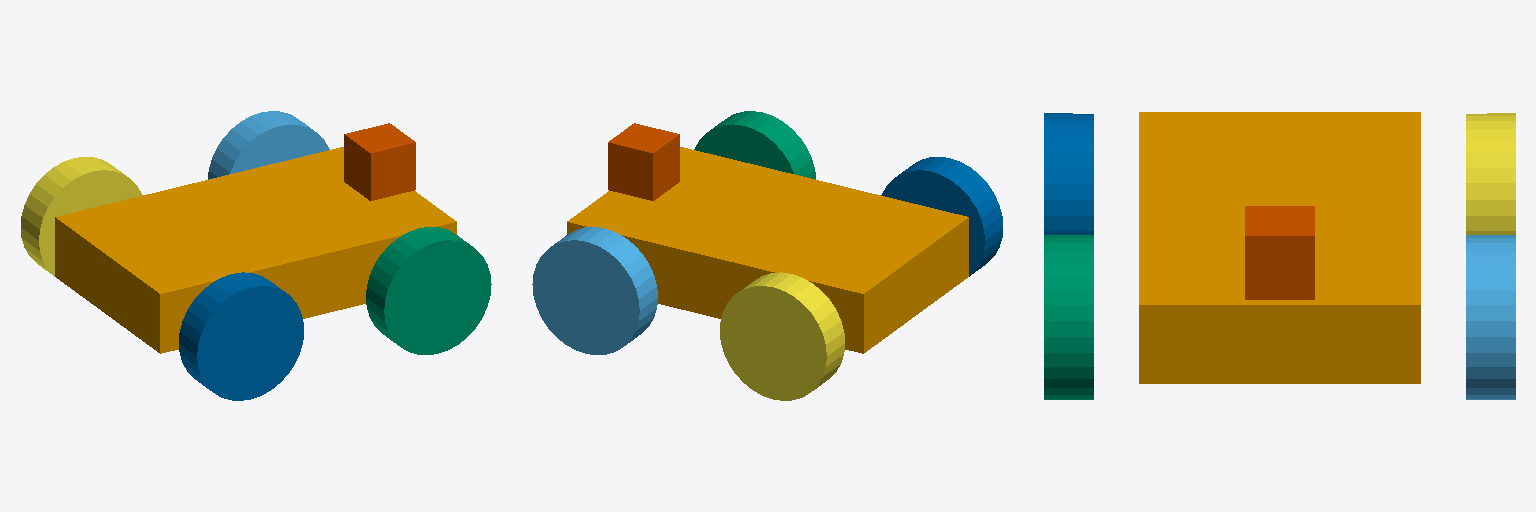
The robot description file, URDF, robot "avular_origin_v10":
<?xml version='1.0'?>

<robot name="avular_origin_v10">

  <material name="grey">
    <color rgba="0.2 0.2 0.2 1"/>
  </material>

  <link name='main_body'>
    <inertial>
      <mass value="21.0"/>
      <inertia ixx="0.4" ixy="0.0" ixz="0.0" iyy="0.77" iyz="0.0" izz="1.01"/>
    </inertial>
    <collision name='main_body_collision'>
      <origin xyz="0 0 0.07" rpy="0 0 0.0"/>
      <geometry>
        <box size=".65 .4 .125"/>
      </geometry>
    </collision>
    <visual name='main_body_visual'>
      <origin xyz="0 0 0.07" rpy="0 0 0.0"/>
      <geometry>
        <box size=".65 .4 .125"/>
      </geometry>
      <material name="black"/>
    </visual>
  </link>

 
  <link name="left_front_wheel">
    <inertial>
      <mass value="1"/>
      <inertia ixx="0.01" ixy="0.0" ixz="0.0" iyy="0.01" iyz="0.0" izz="0.01"/>
    </inertial>
    <collision name="left_front_wheel_collision">
      <origin xyz="0 0 0.0" rpy="0 0 0"/>
      <geometry>
        <cylinder length=".02" radius=".1175"/>
      </geometry>
    </collision>
    <visual name="left_front_wheel_visual">
      <origin xyz="0.0 0.0 0.0" rpy="0.0 0.0 0.0"/>
      <geometry>
        <cylinder length=".07" radius=".1175"/>
      </geometry>
    </visual>
  </link>

  <link name="right_front_wheel">
    <inertial>
      <mass value="1"/>
      <inertia ixx="0.01" ixy="0.0" ixz="0.0" iyy="0.01" iyz="0.0" izz="0.01"/>
    </inertial>
    <collision name="right_front_wheel_collision">
      <origin xyz="0 0 0.0" rpy="0 0 0"/>
      <geometry>
        <cylinder length=".02" radius=".1175"/>
      </geometry>
    </collision>
    <visual name="right_front_wheel_visual">
      <origin xyz="0.0 0.0 0.0" rpy="0.0 0.0 0.0"/>
      <geometry>
        <cylinder length=".07" radius=".1175"/>
      </geometry>
    </visual>
  </link>

  <link name="left_rear_wheel">
    <inertial>
      <mass value="1"/>
      <inertia ixx="0.01" ixy="0.0" ixz="0.0" iyy="0.01" iyz="0.0" izz="0.01"/>
    </inertial>
    <collision name="left_rear_wheel_collision">
      <origin xyz="0 0 0.0" rpy="0 0 0"/>
      <geometry>
        <cylinder length=".02" radius=".1175"/>
      </geometry>
    </collision>
    <visual name="left_rear_wheel_visual">
      <origin xyz="0.0 0.0 0.0" rpy="0.0 0.0 0.0"/>
      <geometry>
        <cylinder length=".07" radius=".1175"/>
      </geometry>
    </visual>
  </link>

  <link name="right_rear_wheel">
    <inertial>
      <mass value="1"/>
      <inertia ixx="0.01" ixy="0.0" ixz="0.0" iyy="0.01" iyz="0.0" izz="0.01"/>
    </inertial>
    <collision name="right_rear_wheel_collision">
      <origin xyz="0 0 0.0" rpy="0 0 0"/>
      <geometry>
        <cylinder length=".02" radius=".1175"/>
      </geometry>
    </collision>
    <visual name="right_rear_wheel_visual">
      <origin xyz="0.0 0.0 0.0" rpy="0.0 0.0 0.0"/>
      <geometry>
        <cylinder length=".07" radius=".1175"/>
      </geometry>
    </visual>
  </link>


  <link name="ouster_base">
    <inertial>
      <mass value="1"/>
      <inertia ixx="0.001" ixy="0.0" ixz="0.0" iyy="0.001" iyz="0.0" izz="0.001"/>
    </inertial>
    <visual name="ouster_base">
      <geometry>
        <box size="0.1 0.1 0.1"/>
      </geometry>
    </visual>
    <collision name="ouster_base">
      <origin xyz="0.0 0.0 0.0" rpy="0.0 0.0 0.0"/>
      <geometry>
        <box size="0.1 0.1 0.1"/>
      </geometry>
    </collision>
  </link>


  <link name="lidar_link_gazebo">
    <inertial>
      <mass value="0.1"/>
      <inertia ixx="0.001" ixy="0.0" ixz="0.0" iyy="0.001" iyz="0.0" izz="0.001"/>
    </inertial>
    <collision name="lidar_link_gazebo">
      <origin xyz="0 0 0.0" rpy="0 0 0"/>
      <geometry>
        <cylinder length="0.07" radius="0.04"/>
      </geometry>
    </collision>
  </link>


  <!-- <link name="camera_link">
    <inertial>
      <mass value="0.035"/>
      <inertia ixx="0.001" ixy="0" ixz="0.0" iyy="0.001" iyz="0.0" izz="0.001"/>
    </inertial>
    <collision name="camera_link">
      <origin xyz="0 0.047 0" rpy="0 0 0"/>
      <geometry>
        <box size="0.008 0.13 0.022"/>
      </geometry>
    </collision>
  </link> -->

  <joint type="continuous" name="left_front_wheel_joint">
    <origin xyz="0.205 0.3 0.056" rpy="-1.5707 0 0"/>
    <child link="left_front_wheel" />
    <parent link="main_body"/>
    <axis xyz="0 0 1"/>
    <limit effort="100000.0" velocity="10"/>
  </joint>

  <joint type="continuous" name="right_front_wheel_joint">
    <origin xyz="0.205 -0.3 0.056" rpy="1.5707 0 0"/>
    <child link="right_front_wheel" />
    <parent link="main_body"/>
    <axis xyz="0 0 -1"/>
    <limit effort="100000.0" velocity="10"/>
  </joint>

  <joint type="continuous" name="eft_rear_wheel_joint">
    <origin xyz="-0.205 0.3 0.056" rpy="-1.5707 0 0"/>
    <child link="left_rear_wheel" />
    <parent link="main_body"/>
    <axis xyz="0 0 1"/>
    <limit effort="100000.0" velocity="10"/>
  </joint>

  <joint type="continuous" name="right_rear_wheel_joint">
    <origin xyz="-0.205 -0.3 0.056" rpy="1.5707 0 0"/>
    <child link="right_rear_wheel" />
    <parent link="main_body"/>
    <axis xyz="0 0 -1"/>
    <limit effort="100000.0" velocity="10"/>
  </joint>

  <joint type="fixed" name="ouster_platform_joint">
    <origin xyz="0.272 0 0.189" rpy="0 0 0"/>
    <child link="ouster_base" />
    <parent link="main_body"/>
  </joint>

  <joint type="fixed" name="lidar_joint_gazebo">
    <origin xyz="0 0 0.035" rpy="0 0 0"/>
    <child link="lidar_link_gazebo" />
    <parent link="ouster_base"/>
  </joint>

  <!-- <joint type="fixed" name="realsense_joint">
    <origin xyz="0.32 0.03 0.1" rpy="0 0 0"/>
    <child link="camera_link"/>
    <parent link="main_body"/>
  </joint> -->


</robot>

--- What the picture shows (computed from the rendered views, not written in the file) ---
Views: 3 orthographic renders of the robot side by side, from view 1: azimuth 30°, elevation 25°; view 2: azimuth 150°, elevation 25°; view 3: azimuth 270°, elevation 25°.
Robot: avular_origin_v10 — 7 links, 6 joints (4 continuous, 2 fixed); root link main_body; default pose: all joints at 0.
Links seen in each view (by area): view 1: main_body, right_rear_wheel, right_front_wheel, left_rear_wheel, left_front_wheel, ouster_base; view 2: main_body, left_rear_wheel, left_front_wheel, right_rear_wheel, right_front_wheel, ouster_base; view 3: main_body, left_front_wheel, right_front_wheel, ouster_base, left_rear_wheel, right_rear_wheel.
Link boxes in pixels (x1,y1,x2,y2): main_body: (55,147,456,353); right_rear_wheel: (179,272,303,400); right_front_wheel: (366,227,491,354); left_rear_wheel: (21,157,142,276); left_front_wheel: (208,111,329,179); ouster_base: (344,123,415,200); main_body: (567,147,968,353); left_rear_wheel: (720,272,844,400); left_front_wheel: (532,227,657,354); right_rear_wheel: (881,157,1002,276); right_front_wheel: (694,111,815,179); ouster_base: (608,123,679,200); main_body: (1139,112,1420,383); left_front_wheel: (1466,235,1515,399); right_front_wheel: (1044,235,1093,399); ouster_base: (1245,206,1314,299); left_rear_wheel: (1466,113,1515,234); right_rear_wheel: (1044,113,1093,234).
Size in the robot's own frame: 0.65 by 0.67 by 0.3005 metres.
Geometry: primitives only (box / cylinder / sphere), no mesh files.